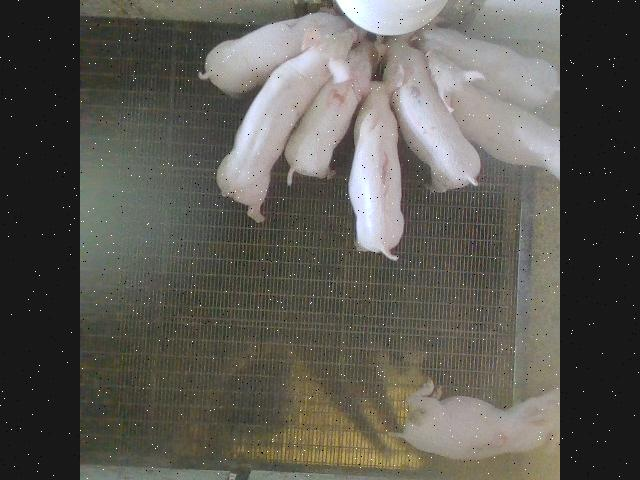pig-1: (349, 60, 404, 259)
pig-3: (390, 379, 558, 459)
pig-4: (285, 79, 358, 185)
